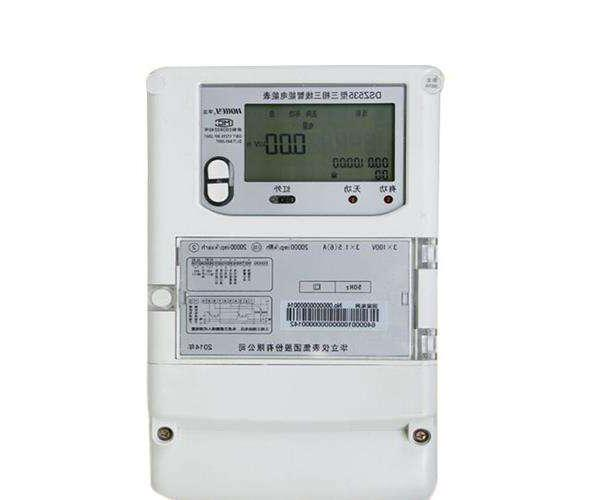digital: (146, 69, 435, 500)
